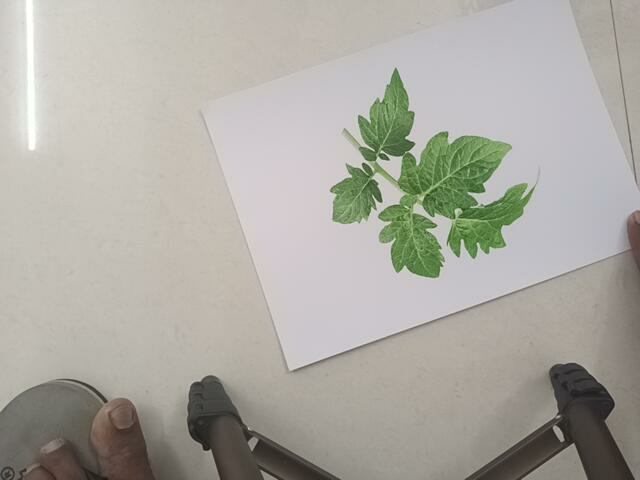Tomamto_Leaf_Healthy: (330, 60, 545, 285)
